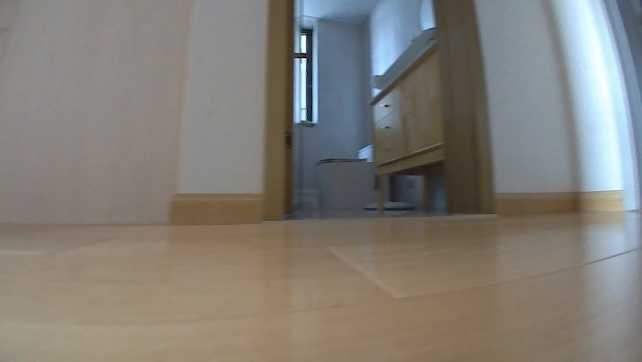toilet: (314, 140, 376, 210)
washstand: (367, 36, 446, 181)
